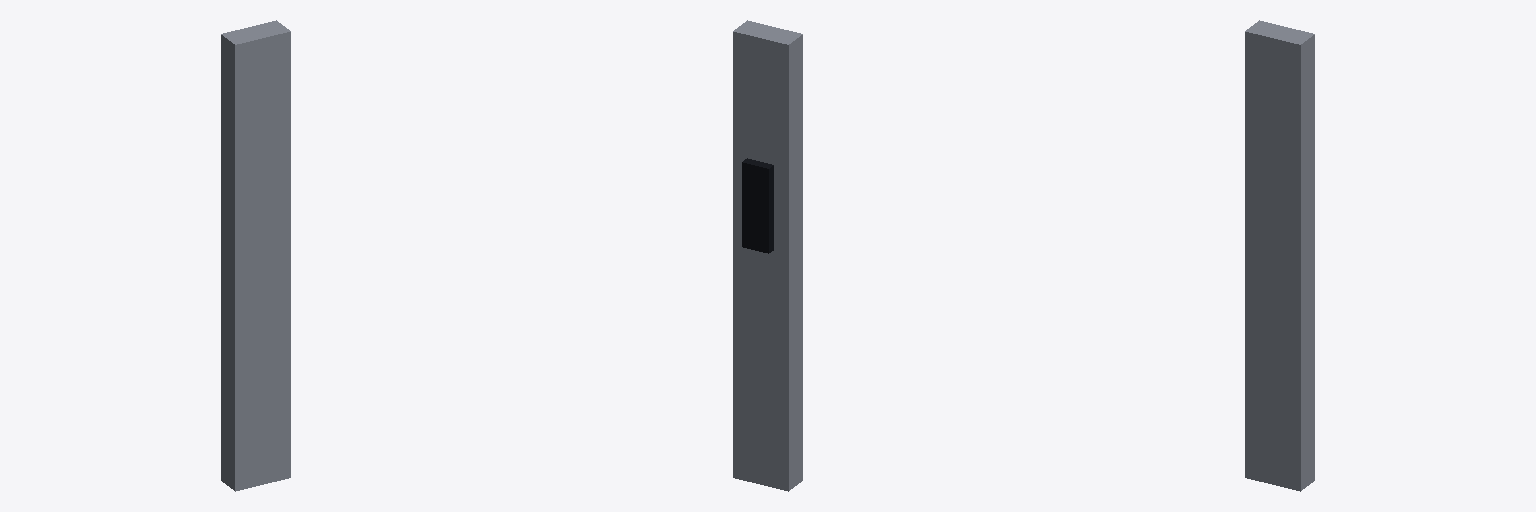
The robot description file, URDF, robot "artmanip_knife_020":
<?xml version='1.0' encoding='utf-8'?>
<robot name="artmanip_knife_020"><link name="link_0"><inertial><mass value="0.029" /><inertia ixx="5.34672351343171e-05" iyy="5.418686951309996e-05" izz="1.1067893574633147e-06" ixy="0" ixz="0" iyz="0" /></inertial><visual><geometry><box size="0.019439155666243595 0.008949917880730397 0.148473136051462" /></geometry><material name="link_0_color"><color rgba=".58 .60 .64 1" /></material></visual><collision><geometry><box size="0.019439155666243595 0.008949917880730397 0.148473136051462" /></geometry></collision></link><link name="link_1"><inertial><mass value="0.006" /><inertia ixx="4.0401038483117315e-07" iyy="4.443284083782153e-07" izz="5.0460998856818286e-08" ixy="0" ixz="0" iyz="0" /></inertial><visual><geometry><box size="0.009527802601012492 0.0031848038102489425 0.028246730684321153" /></geometry><material name="link_1_color"><color rgba=".12 .13 .15 1" /></material></visual><collision><geometry><box size="0.009527802601012492 0.0031848038102489425 0.028246730684321153" /></geometry></collision></link><joint name="slider" type="prismatic"><parent link="link_0" /><child link="link_1" /><origin xyz="0.0 0.0060673608454896695 0.019043221717880515" /><axis xyz="0 0 1" /><limit lower="-0.041314192125599815" upper="0.008685807874400188" effort="100" velocity="1" /><dynamics damping="1000" friction="0.001" /></joint></robot>

--- What the picture shows (computed from the rendered views, not written in the file) ---
Views: 3 orthographic renders of the robot side by side, from view 1: azimuth 30°, elevation 25°; view 2: azimuth 150°, elevation 25°; view 3: azimuth 330°, elevation 25°.
Model artmanip_knife_020 with 2 links and 1 joints (1 prismatic), rooted at link_0, posed all joints at 0.
Links seen in each view (by area): view 1: link_0; view 2: link_0, link_1; view 3: link_0.
Link boxes in pixels (x1,y1,x2,y2): link_0: (221, 20, 290, 491); link_0: (733, 20, 802, 491); link_1: (742, 158, 773, 253); link_0: (1245, 20, 1314, 491).
Bounding box of the posed robot: 0.0194 × 0.0121 × 0.1485 m (x, y, z).
Geometry: primitives only (box / cylinder / sphere), no mesh files.
